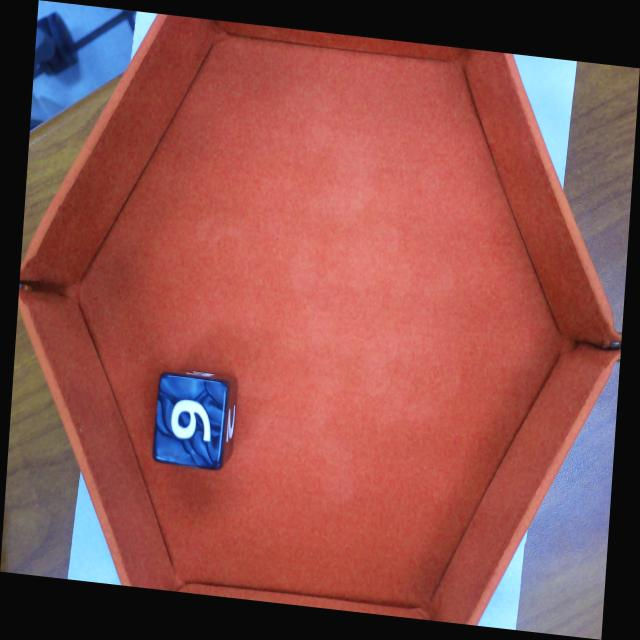dice: (155, 374, 228, 467)
